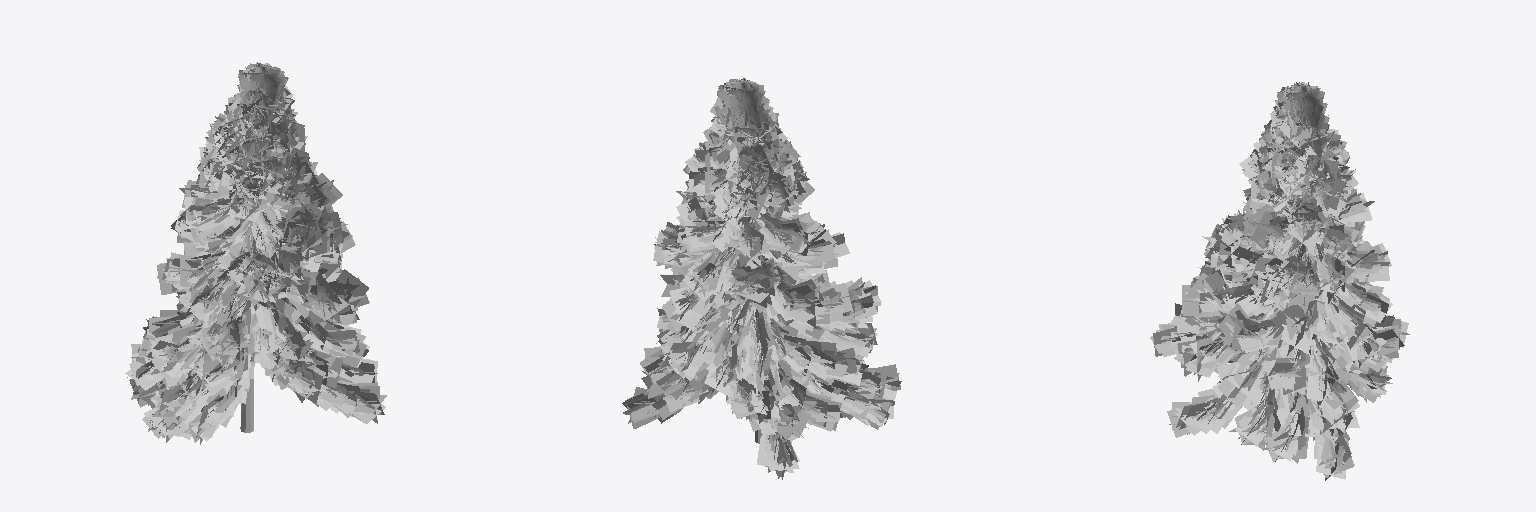
Rendered from tree_6.obj.
3 views of the same model, side by side, from view 1: azimuth 30°, elevation 25°; view 2: azimuth 150°, elevation 25°; view 3: azimuth 270°, elevation 25° (orthographic).
Parts seen in each view (by area): view 1: Mesh_1.006; view 2: Mesh_1.006; view 3: Mesh_1.006.
Boxes of the visible parts, x1=… form: Mesh_1.006: x1=125, y1=62, x2=386, y2=444; Mesh_1.006: x1=622, y1=78, x2=901, y2=479; Mesh_1.006: x1=1150, y1=82, x2=1409, y2=480.
Bounding box in the file's own units: 48.83 × 70.81 × 46.75.